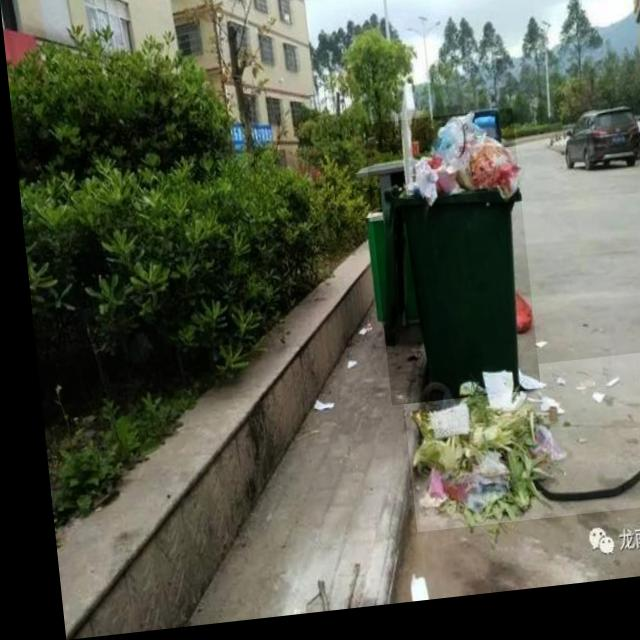garbage: (392, 366, 640, 541)
overflow: (359, 120, 531, 414)
